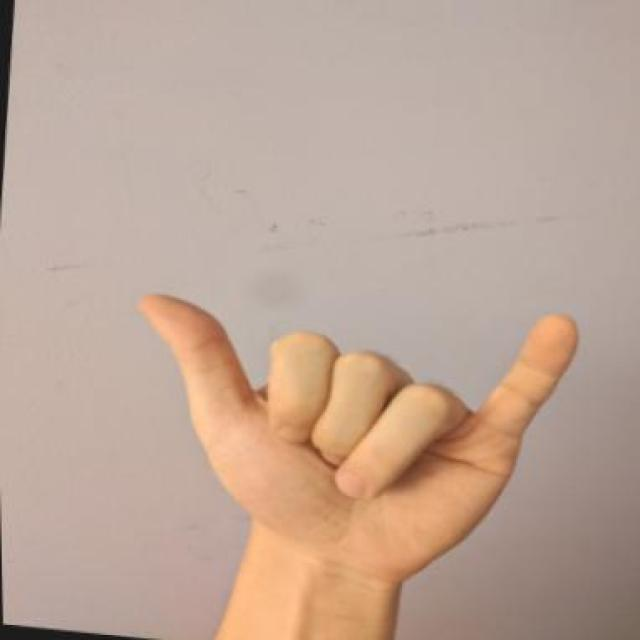Y: (107, 264, 592, 597)
